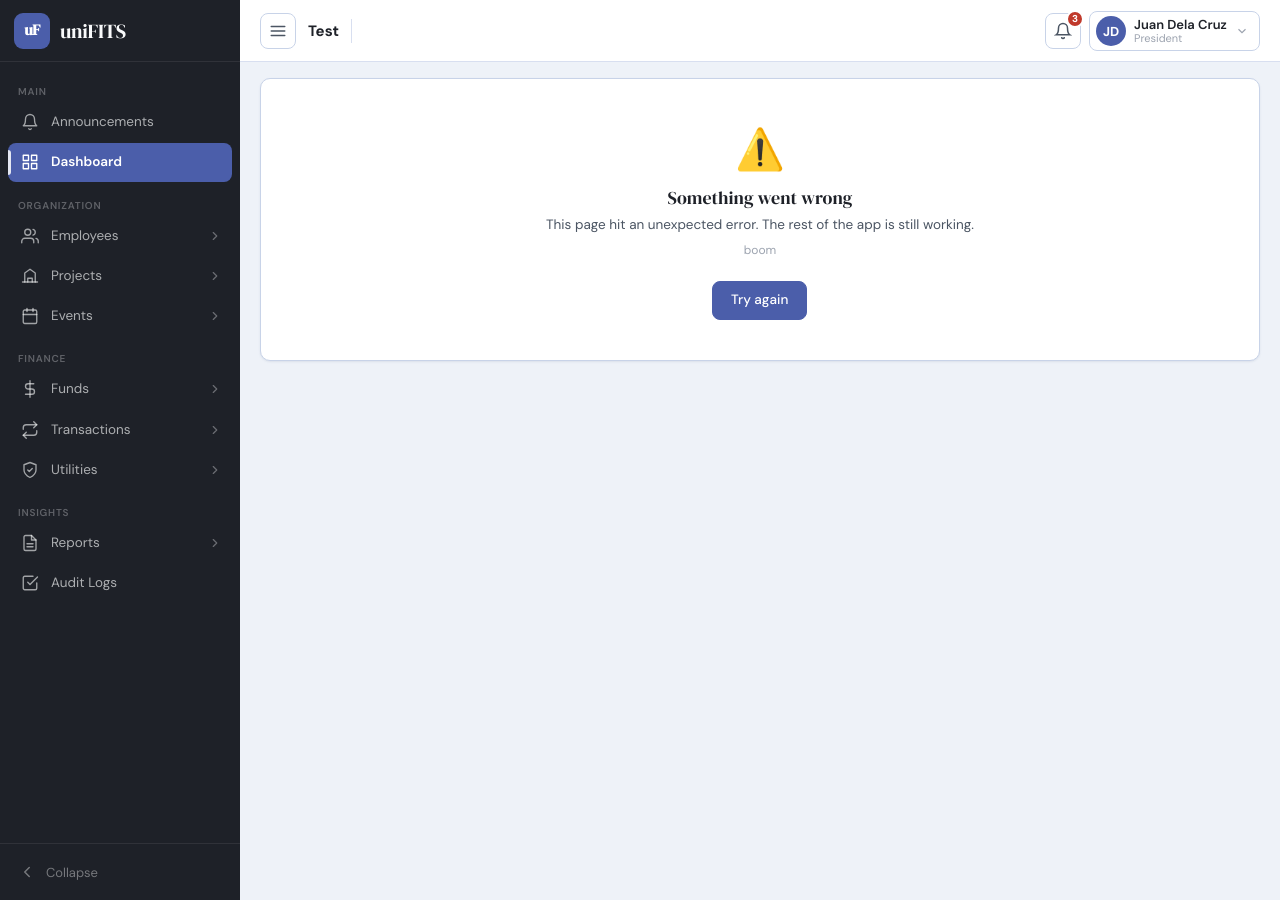
ErrorBoundary › shows a friendly panel, keeps the sidebar, and recovers on "Try again"
Expected: the message shows "Something went wrong", [668,185,852,210]
Expected: the message shows "boom", [744,242,776,258]
Step 1. Click the button "Try again" → (760, 300), box [712,281,808,320]
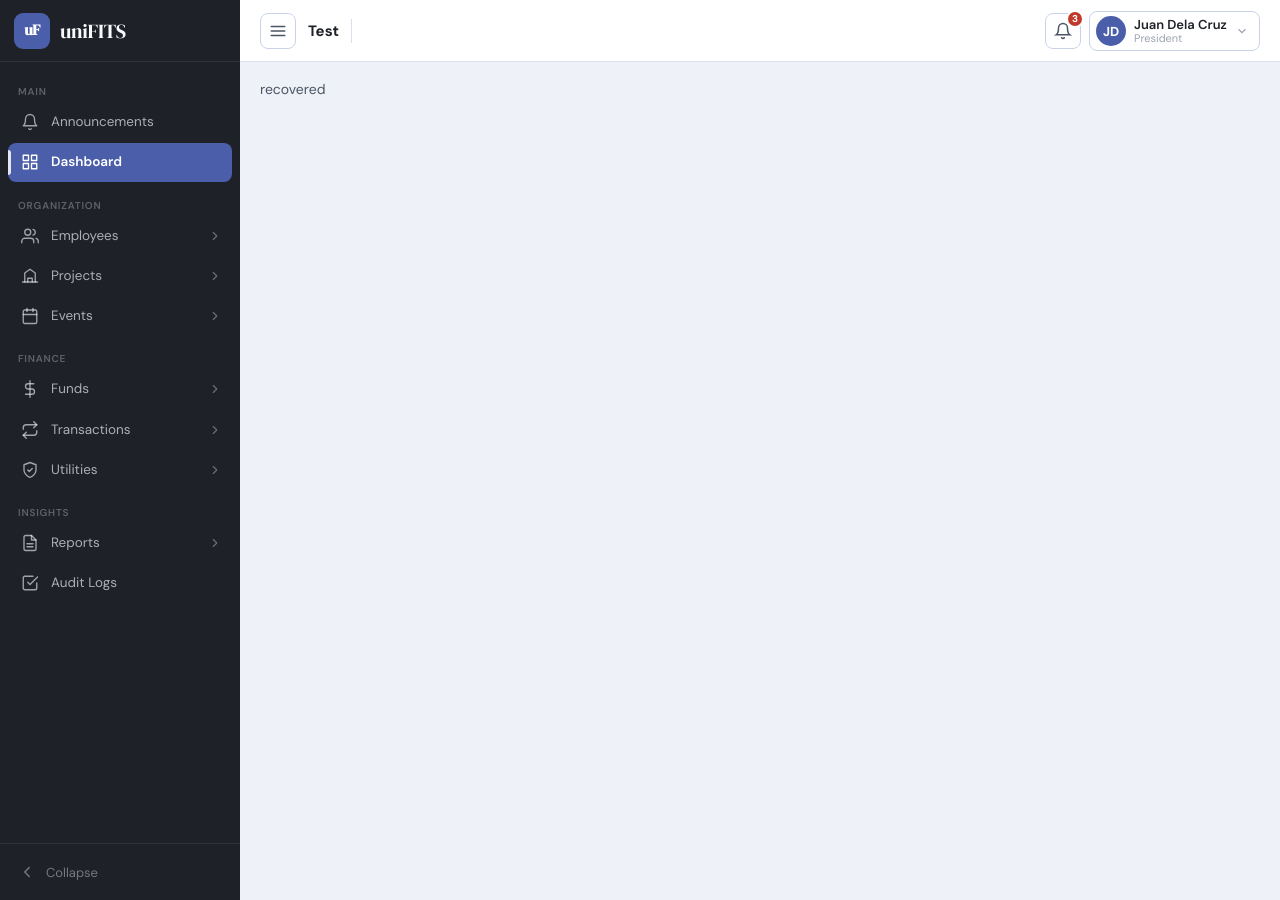
Now the text "recovered" is shown, box [260,80,326,98]
